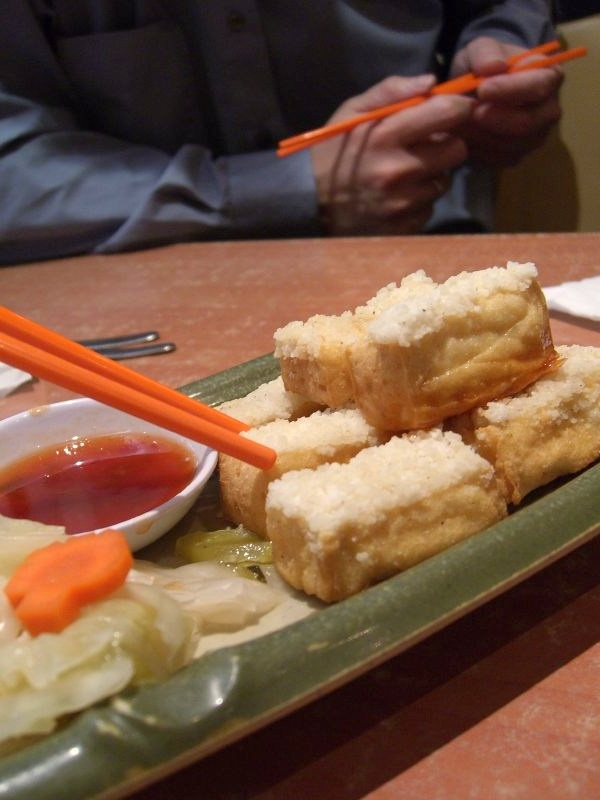Tahu Goreng: (17, 232, 580, 641)
